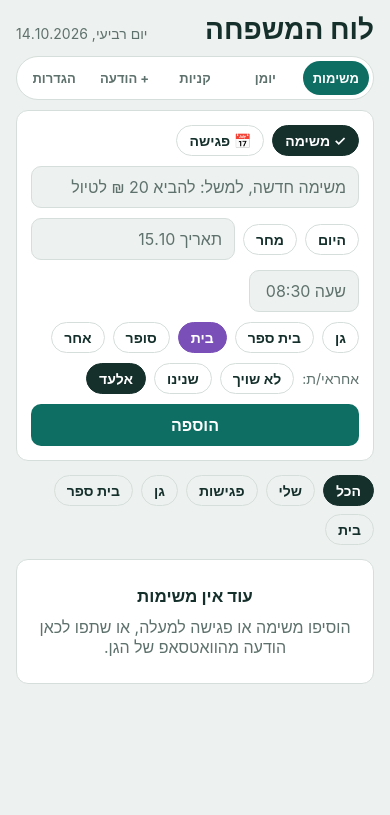
adding from a message › pasted text → preview → only the ticked items are saved, each in the right list
Click the tab "+ הודעה" at (125, 78), box [100,70,149,86]
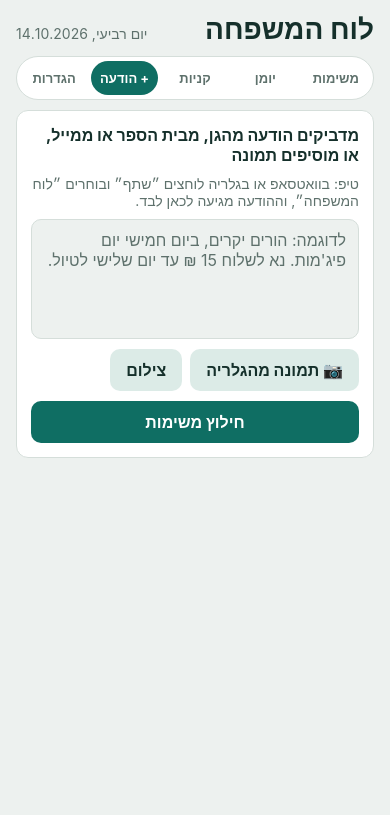
Replace the text in the text box with placeholder "לדוגמה: הורים יקרים" with "הורים יקרים, ביום חמישי יום פיג'מות..." at (195, 279), box [31,219,359,339]
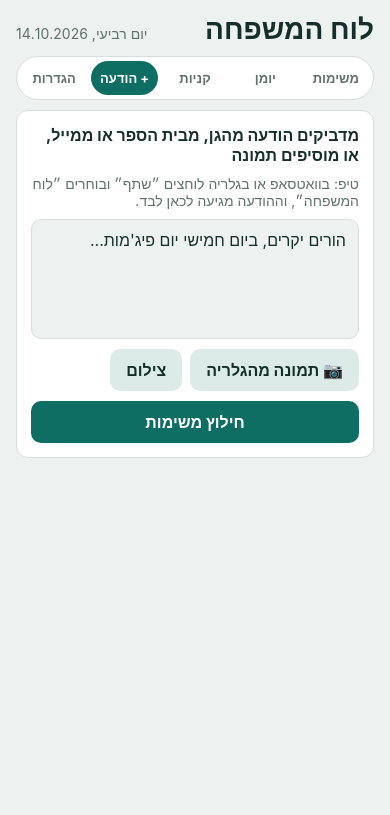
Click the button "חילוץ משימות" at (195, 422), box [31,401,359,443]
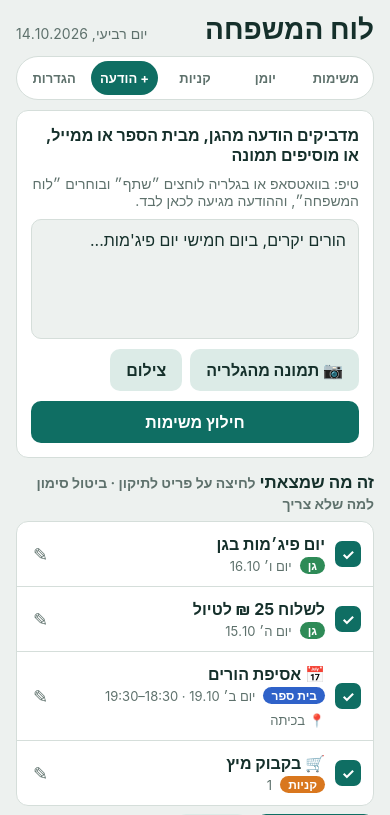
Expected: the text "יום פיג׳מות בגן" is shown, [216,534,325,554]
Expected: the text "🛒 בקבוק מיץ" is shown, [226,753,325,773]
Click the 3rd checkbox labelled "✓" at (348, 696), box [335,683,361,709]
(page scrolled)
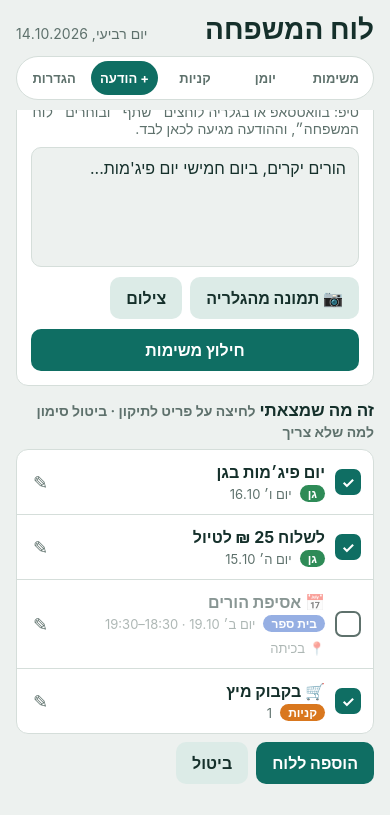
Click the button "הוספה ללוח" at (315, 763), box [256,742,374,784]
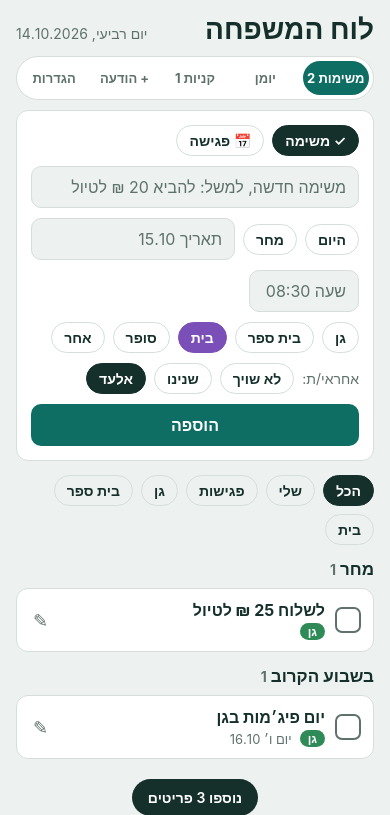
Expected: the text "לשלוח 25 ₪ לטיול" is shown, [193,600,325,620]
Expected: the text "מחר 1" is shown, [330,559,374,579]
Expected: the text "קניות 1" is shown, [175,70,215,86]
